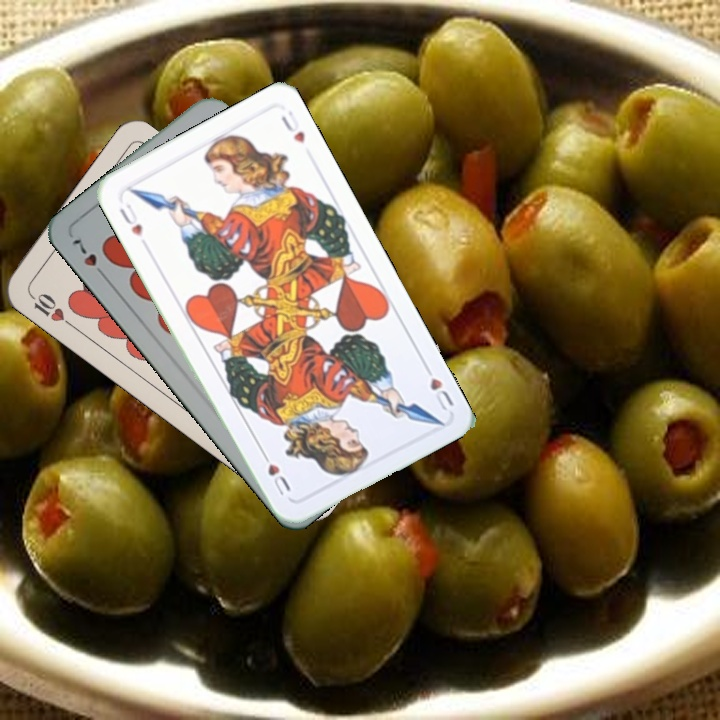H10: (25, 288, 76, 330)
H7: (68, 235, 111, 283)
HU: (419, 359, 457, 415), (115, 198, 145, 239)
